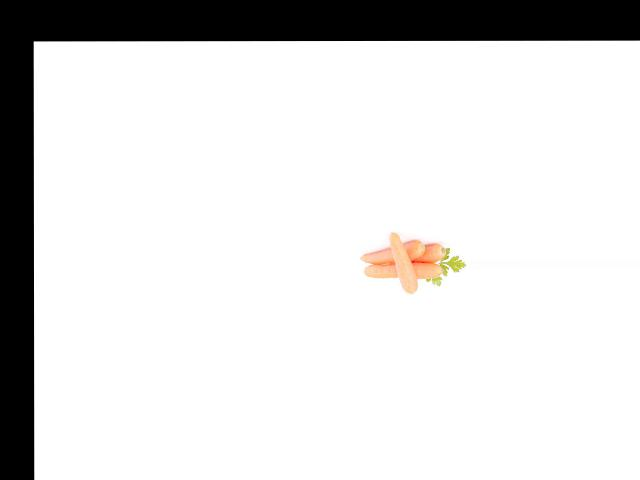carrot: (372, 241, 445, 267)
